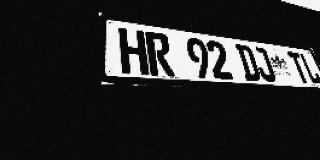2: (205, 40, 233, 80)
9: (185, 37, 214, 79)
D: (235, 44, 262, 81)
H: (118, 27, 149, 75)
J: (251, 46, 277, 82)
L: (299, 53, 320, 84)
R: (145, 31, 175, 77)
T: (286, 51, 311, 84)
